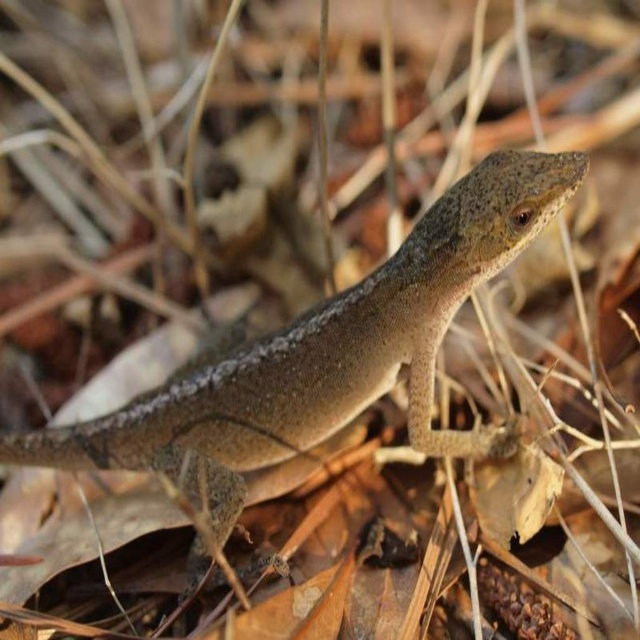Lizard: (18, 153, 586, 609)
